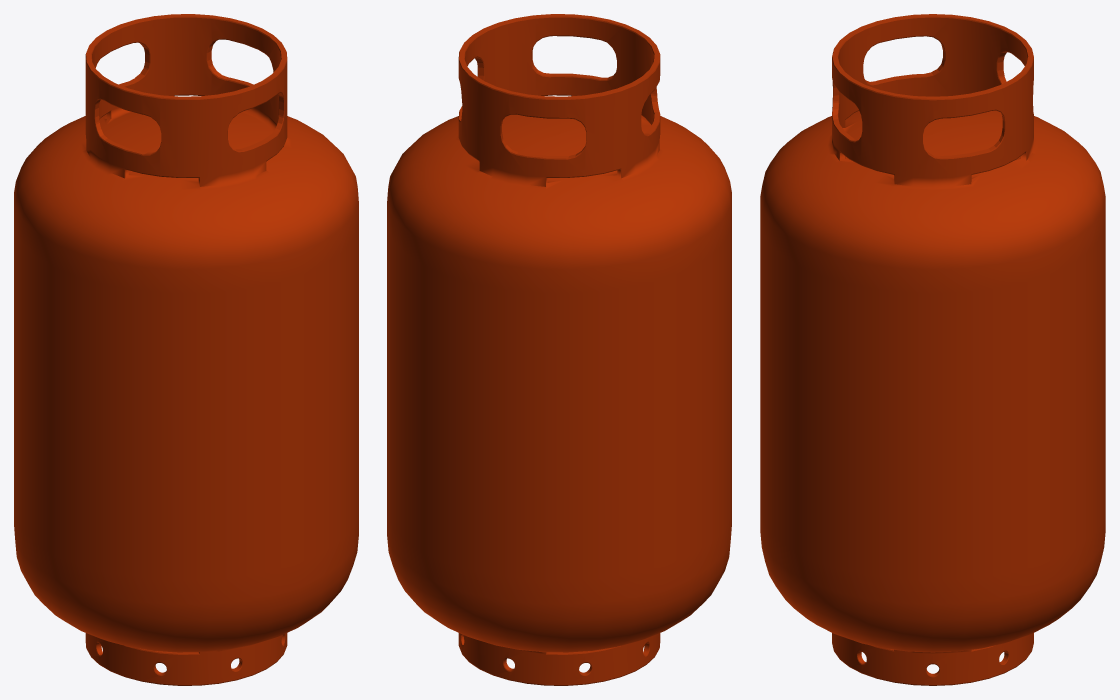
Rendered from ProjectBoost_BonusItem_Fuel.fbx.
3 renders of one model, left to right at view 1: azimuth 30°, elevation 25°; view 2: azimuth 150°, elevation 25°; view 3: azimuth 270°, elevation 25°, orthographic.
Visible parts, largest first — view 1: RocketFuel_Item; view 2: RocketFuel_Item; view 3: RocketFuel_Item.
Part boxes in pixels (left/top/right/bottom): RocketFuel_Item: left=14, top=14, right=358, bottom=685; RocketFuel_Item: left=387, top=14, right=731, bottom=685; RocketFuel_Item: left=760, top=14, right=1105, bottom=685.
Size of the model in its own units: 160 by 300 by 160.
